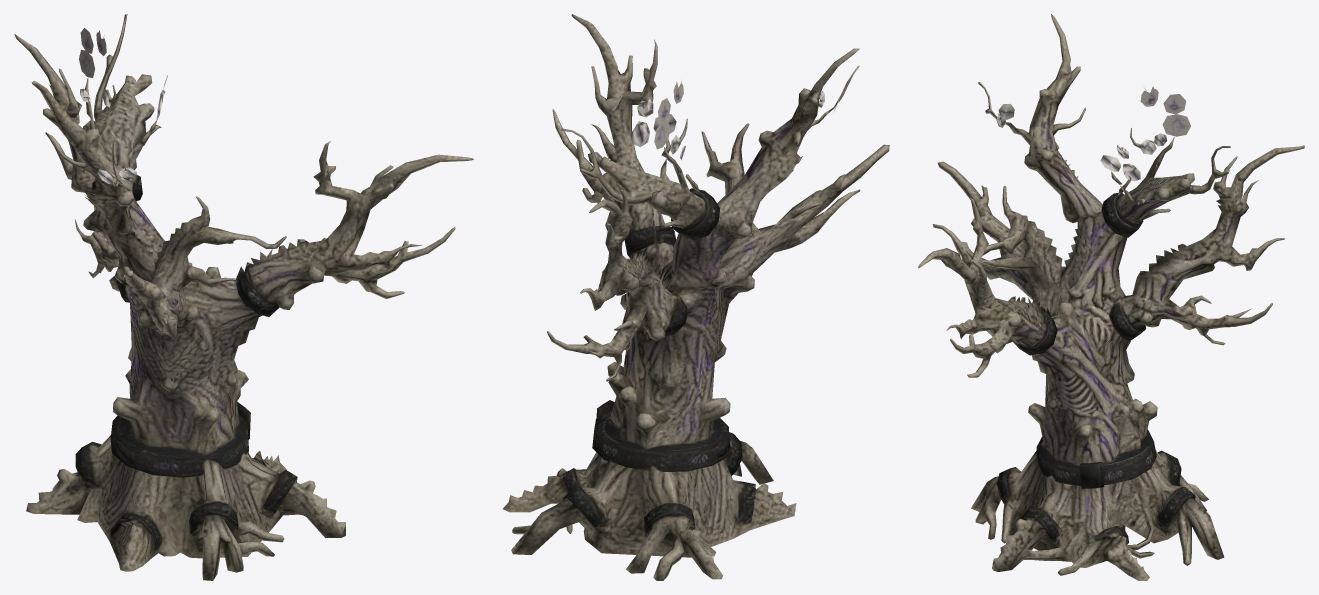
The model's file is prop_node_bone_elder.glb.
3 views of the same model, side by side, from view 1: azimuth 30°, elevation 25°; view 2: azimuth 150°, elevation 25°; view 3: azimuth 270°, elevation 25° (orthographic). The views are drawn at different scales.
Parts seen in each view (by area): view 1: tripo_node_ea0dd70d-3621-4384-a565-8c1ad74680e3; view 2: tripo_node_ea0dd70d-3621-4384-a565-8c1ad74680e3; view 3: tripo_node_ea0dd70d-3621-4384-a565-8c1ad74680e3.
Boxes of the visible parts, box(x1,y1,x2,y2) form: tripo_node_ea0dd70d-3621-4384-a565-8c1ad74680e3: box(14, 14, 473, 580); tripo_node_ea0dd70d-3621-4384-a565-8c1ad74680e3: box(503, 14, 889, 580); tripo_node_ea0dd70d-3621-4384-a565-8c1ad74680e3: box(918, 14, 1304, 580).
Bounding box in the file's own units: 0.7597 × 0.998 × 0.791.
Materials: 1 (1 with a texture image).
